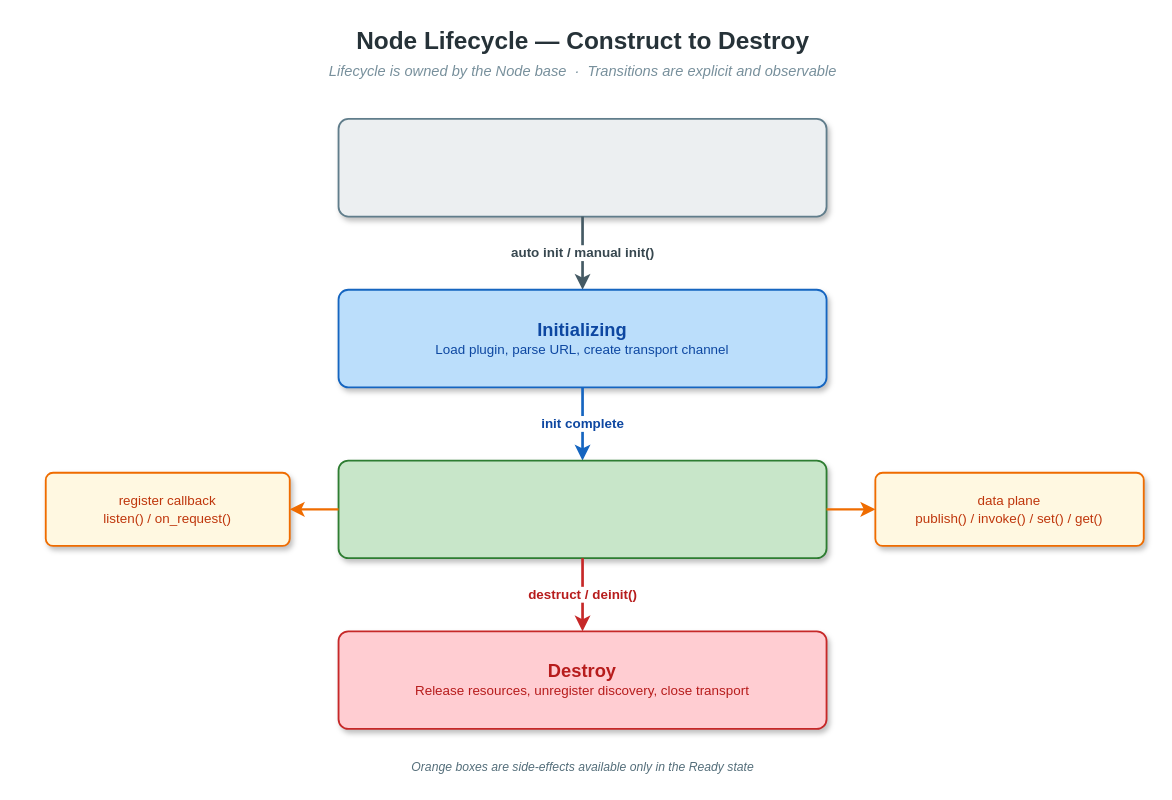
The diagram is 1172 pixels wide and 800 high, and some of its shapes have lost their labels. Here are the shapes that lost their labels. From the top down, the centre of each, then its label:
the point at 583,169: Construct Node(url) or Node(conf)
the point at 583,510: Ready Can send and receive messages
